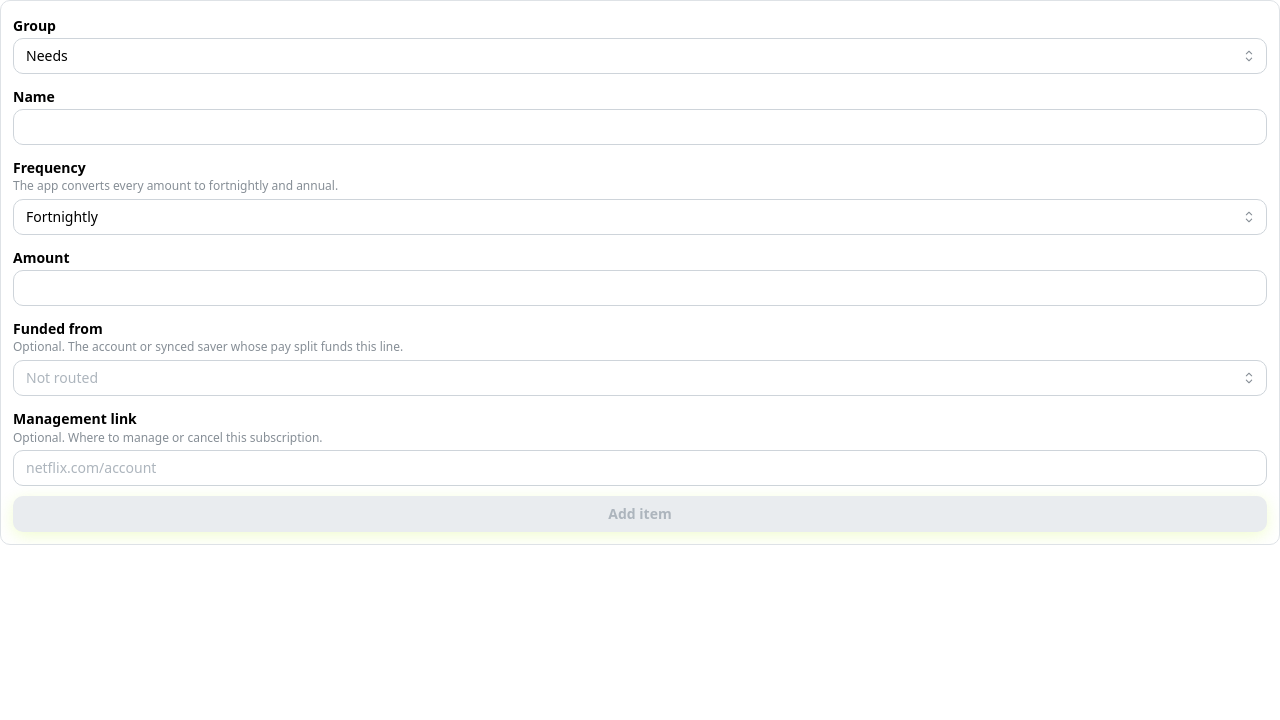
Test case: BudgetLineForm › keeps submit disabled on an every-N-weeks line until the interval is valid
The width and height of the screenshot is (1280, 720).
Type "Bin night" into the field labelled "Name".
click(640, 127); type("Bin night")  # box [13,109,1267,145]
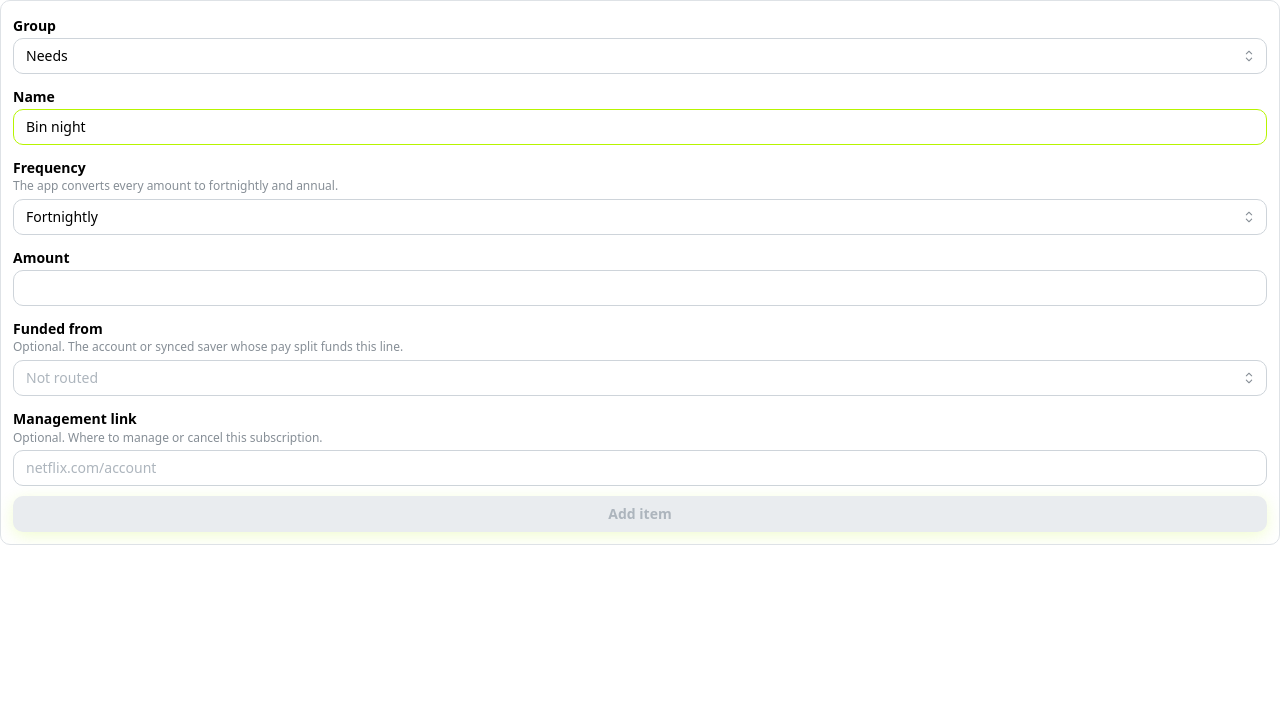
Click the dropdown labelled "Frequency".
click(640, 217)  # box [13,199,1267,235]
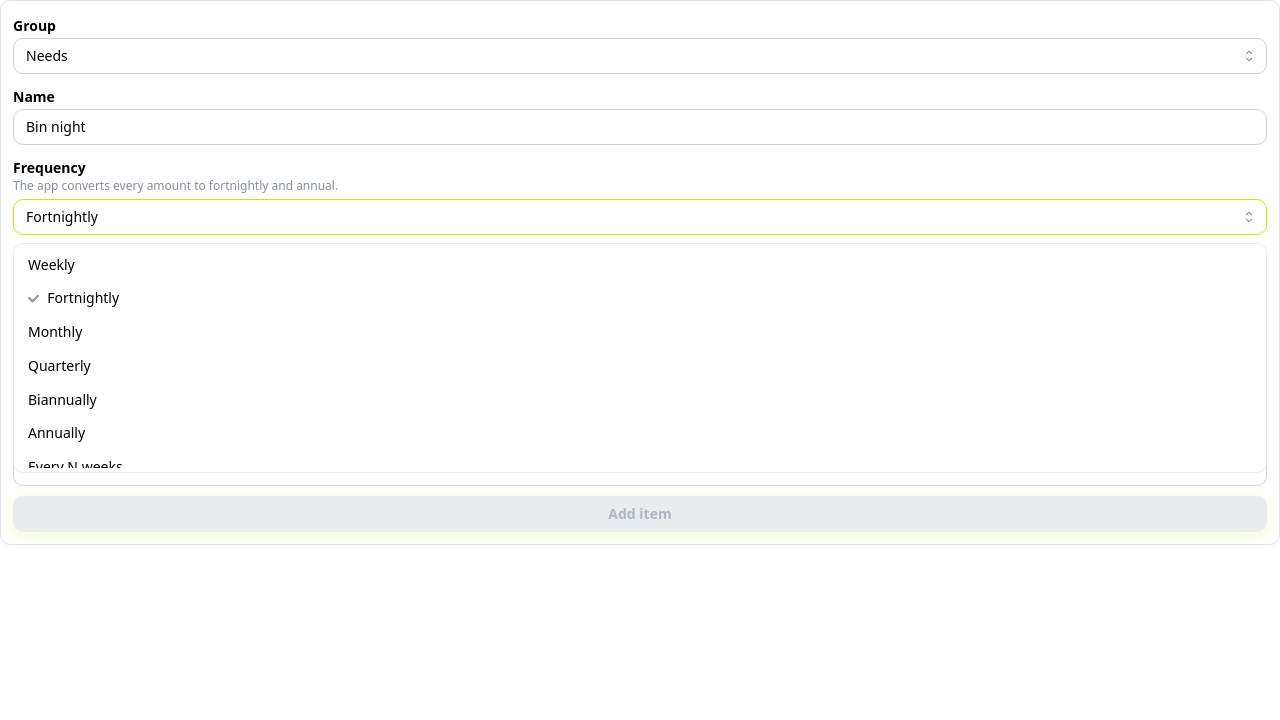
Click the option "Every N weeks".
click(75, 466)  # box [28,457,123,476]
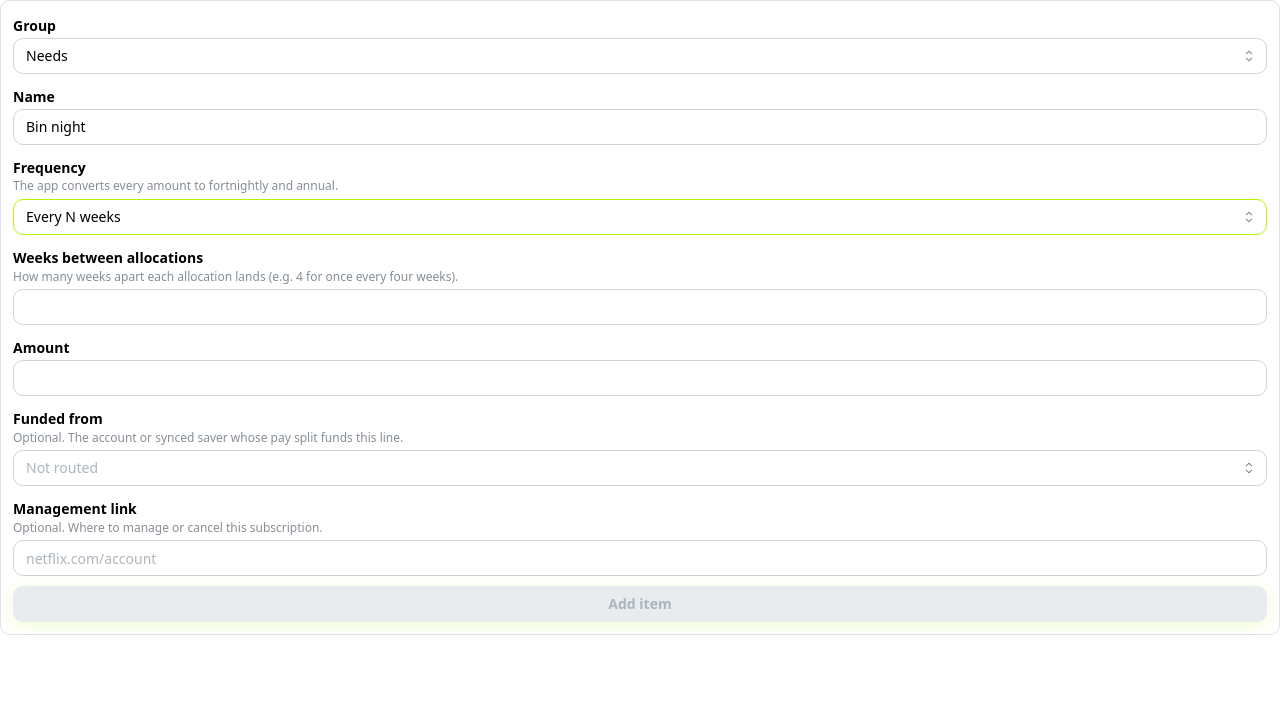
Type "20" into the field labelled "Amount".
click(640, 378); type("20")  # box [13,360,1267,396]
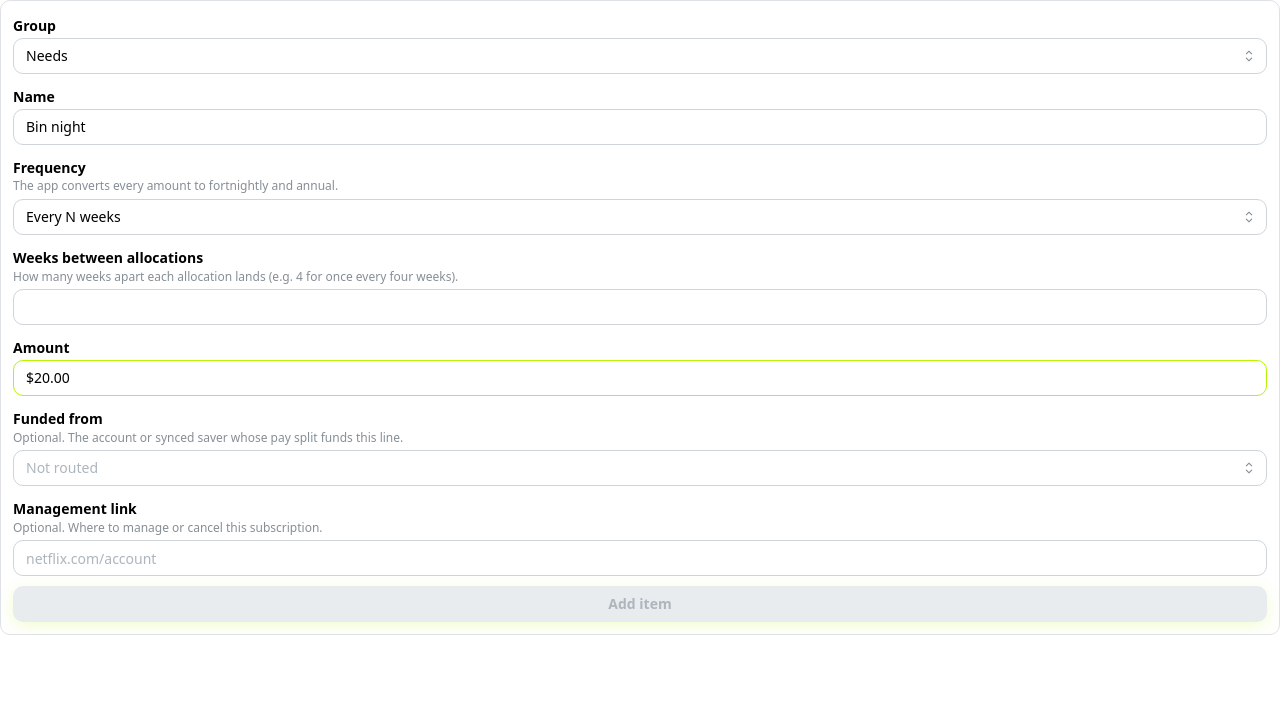
Expected: the button "Add item" is disabled, [13,586,1267,622]
Type "4" into the field labelled "Weeks between allocations".
click(640, 307); type("4")  # box [13,289,1267,325]
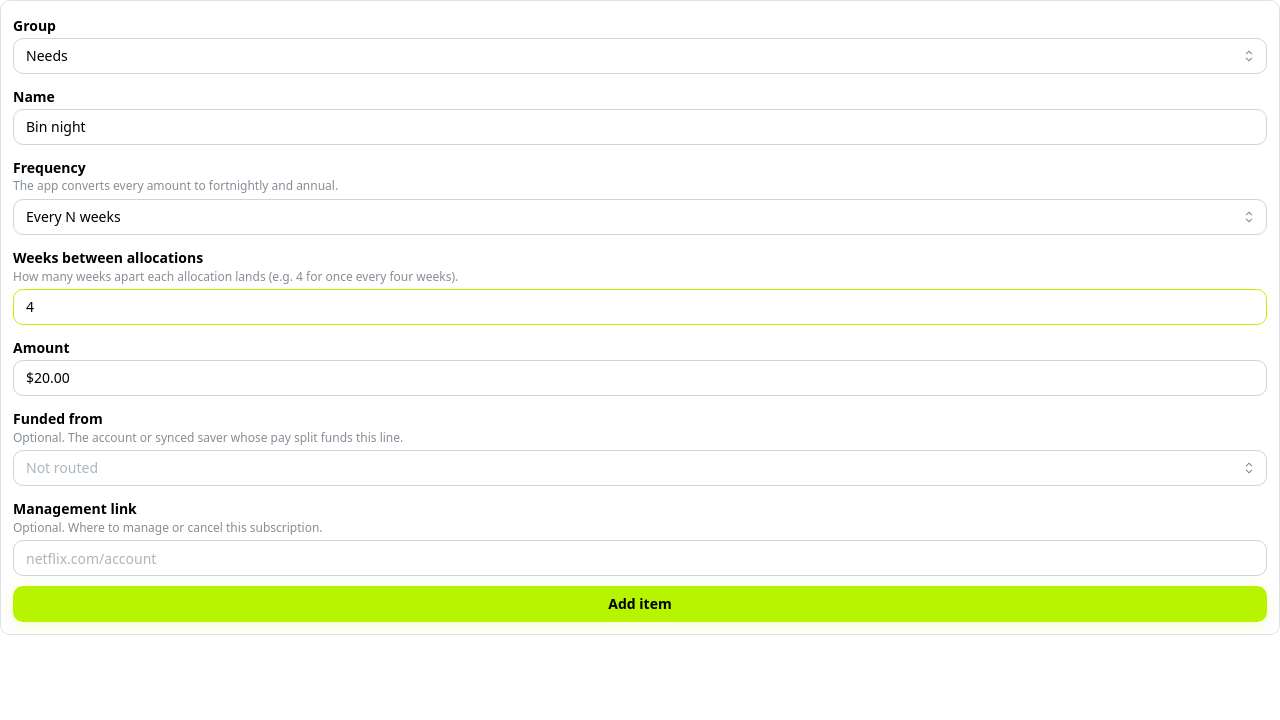
Expected: the button "Add item" is enabled, [13,586,1267,622]
